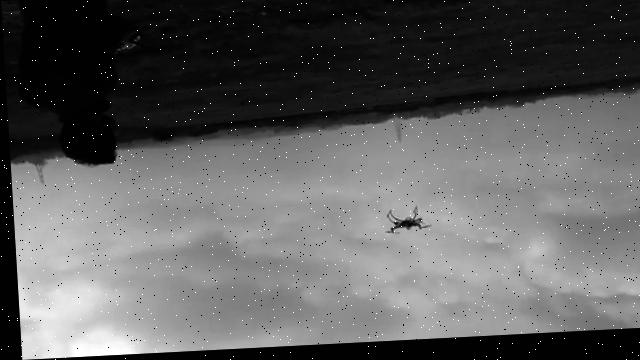drone: (377, 210, 428, 240)
